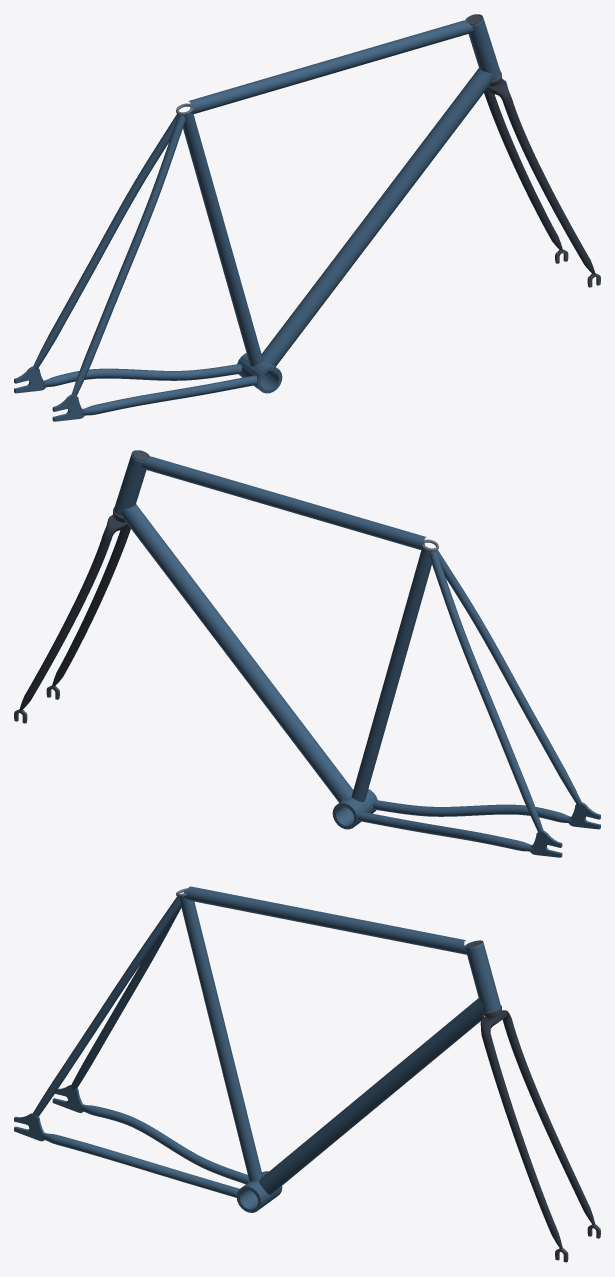
File: dosnoventa-01-bcn-m.glb
3 views of the same model, one above another, from view 1: azimuth 30°, elevation 25°; view 2: azimuth 150°, elevation 25°; view 3: azimuth 330°, elevation 25° (orthographic).
Visible parts, largest first — view 1: paint_down, paint_top, paint_seat, paint_seatstay_1, paint_seatstay_-1, paint_chainstay_-1, paint_chainstay_1, fork_blade_1, fork_blade_-1, paint_head, paint_bottom_bracket, rear_dropout_1 (+1 smaller); view 2: paint_down, paint_top, paint_seat, paint_seatstay_-1, paint_seatstay_1, paint_chainstay_1, paint_chainstay_-1, fork_blade_-1, fork_blade_1, paint_head, paint_bottom_bracket, rear_dropout_-1 (+1 smaller); view 3: paint_down, paint_seat, paint_top, paint_seatstay_1, paint_chainstay_1, fork_blade_1, fork_blade_-1, paint_chainstay_-1, paint_seatstay_-1, paint_head, paint_bottom_bracket, rear_dropout_1 (+1 smaller).
Part boxes in pixels (x1,y1,x2,y2): paint_down: [261, 68, 493, 366]; paint_top: [188, 20, 473, 114]; paint_seat: [183, 113, 263, 366]; paint_seatstay_1: [71, 115, 185, 395]; paint_seatstay_-1: [33, 114, 178, 370]; paint_chainstay_-1: [43, 364, 241, 387]; paint_chainstay_1: [81, 375, 257, 415]; fork_blade_1: [503, 98, 595, 274]; fork_blade_-1: [484, 89, 562, 250]; paint_head: [465, 14, 500, 80]; paint_bottom_bracket: [237, 353, 282, 393]; rear_dropout_1: [52, 395, 84, 421]; paint_down: [121, 504, 353, 802]; paint_top: [141, 456, 426, 550]; paint_seat: [351, 549, 431, 802]; paint_seatstay_-1: [429, 551, 543, 831]; paint_seatstay_1: [436, 550, 581, 806]; paint_chainstay_1: [373, 800, 571, 823]; paint_chainstay_-1: [357, 811, 533, 851]; fork_blade_-1: [19, 534, 111, 710]; fork_blade_1: [52, 525, 130, 686]; paint_head: [114, 450, 149, 516]; paint_bottom_bracket: [332, 789, 377, 829]; rear_dropout_-1: [530, 831, 562, 857]; paint_down: [259, 998, 484, 1194]; paint_seat: [179, 896, 262, 1181]; paint_top: [183, 886, 466, 954]; paint_seatstay_1: [32, 896, 180, 1116]; paint_chainstay_1: [41, 1133, 239, 1197]; fork_blade_1: [482, 1034, 562, 1249]; fork_blade_-1: [503, 1018, 595, 1225]; paint_chainstay_-1: [80, 1104, 249, 1184]; paint_seatstay_-1: [71, 906, 181, 1089]; paint_head: [465, 940, 500, 1011]; paint_bottom_bracket: [236, 1171, 282, 1212]; rear_dropout_1: [14, 1113, 44, 1141].
Size of the model in its own units: 1.02 by 0.5625 by 0.144.
